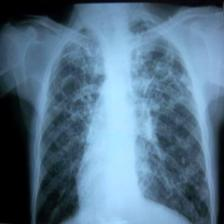tuberculosis: (27, 17, 216, 224)
